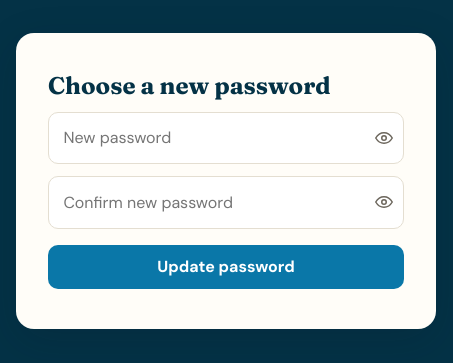
Test: Admin reset-password page › shows an error when the passwords don't match
In the password field with placeholder "New password": point(226, 138) [48,112,404,164], type "longenoughpw1"
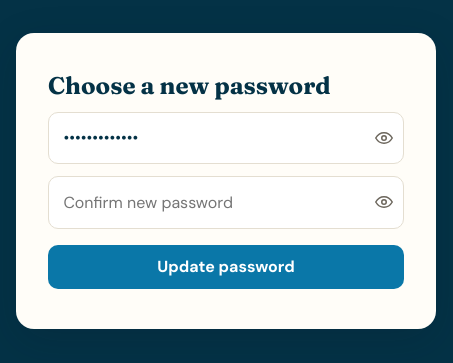
In the password field with placeholder "Confirm new password": point(226, 202) [48,176,404,229], type "longenoughpw2"
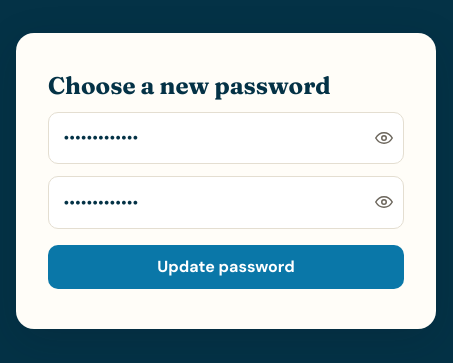
Click the button "Update password": point(226, 267) [48,245,404,289]
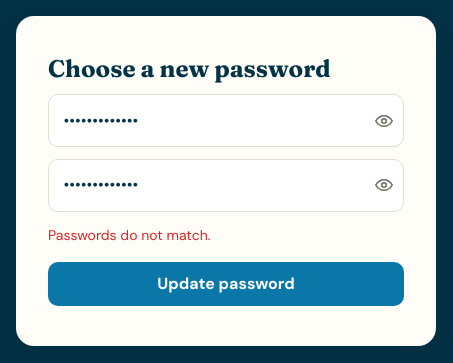
expect the message shows "do not match": met, box [48,226,210,244]
